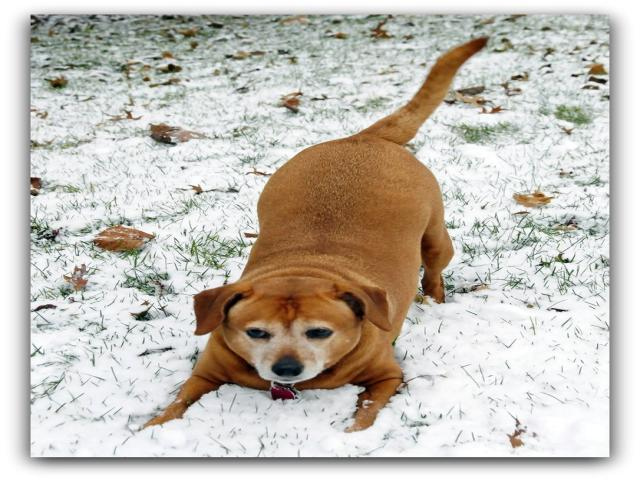Dog: (140, 35, 490, 430)
